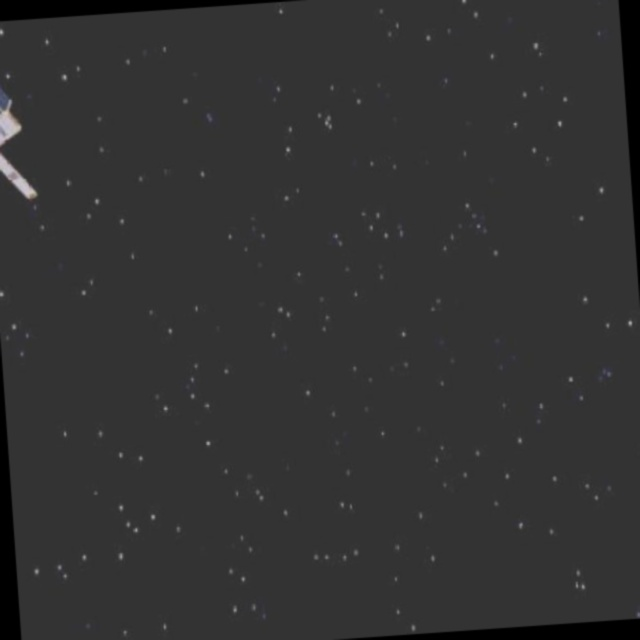medium_debris: (0, 72, 44, 218)
